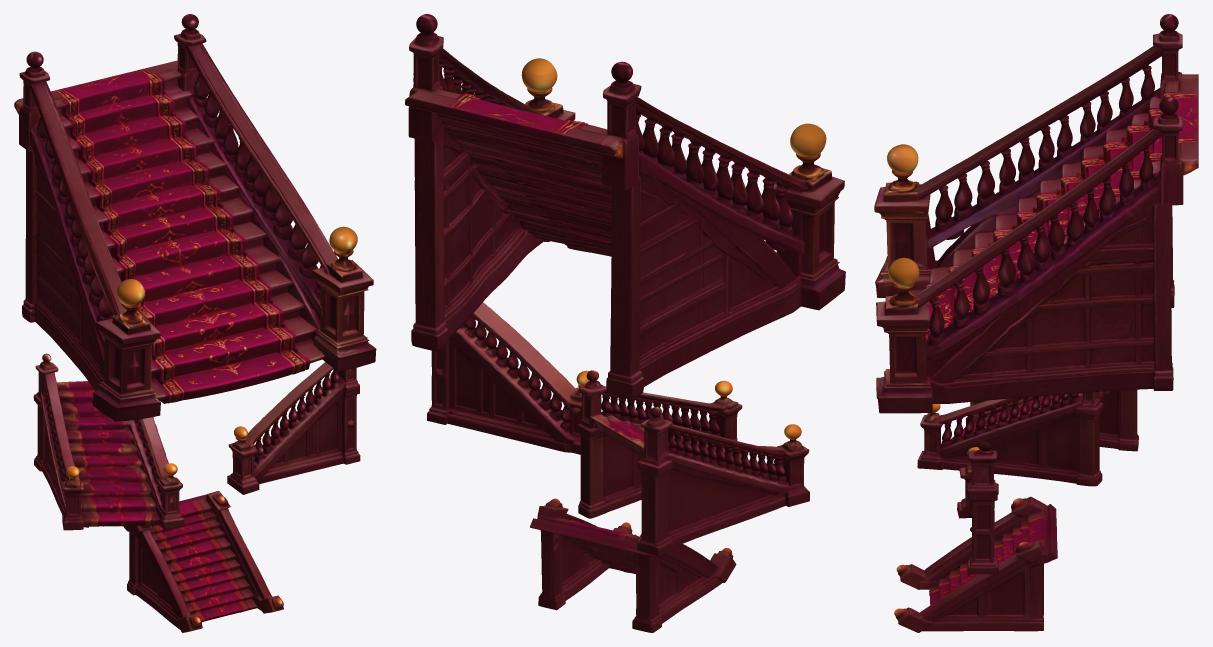
The model's file is stairs.glb.
3 renders of one model, left to right at view 1: azimuth 30°, elevation 25°; view 2: azimuth 150°, elevation 25°; view 3: azimuth 270°, elevation 25°, orthographic. The views are drawn at different scales.
Visible parts, largest first — view 1: model; view 2: model; view 3: model.
Boxes of the visible parts, x1,y1,x2,y2 form: model: [14, 14, 376, 632]; model: [405, 14, 845, 632]; model: [874, 14, 1198, 632].
Size of the model in its own units: 1.15 by 1.9 by 1.01.
Materials: 1 (1 with a texture image).
